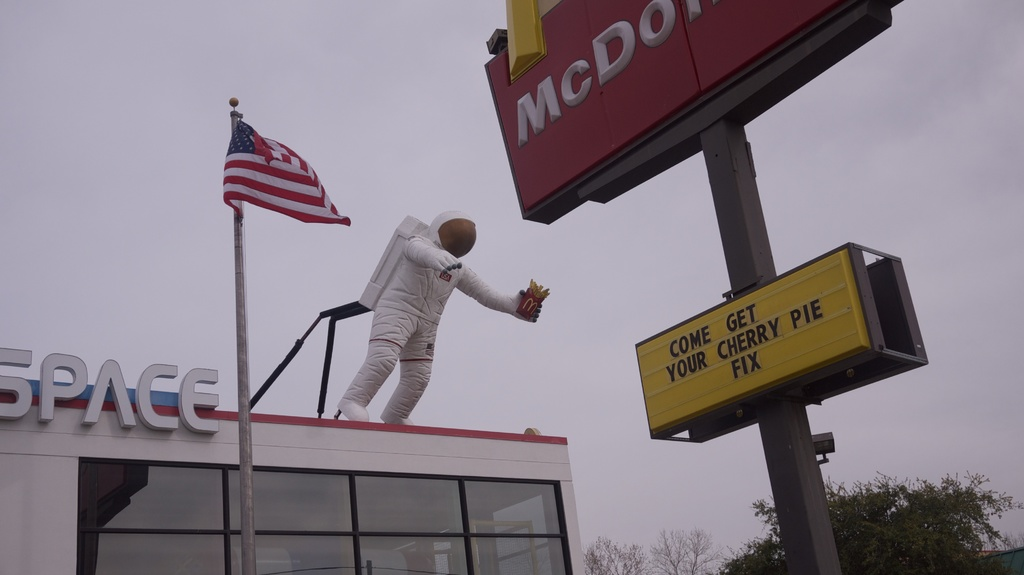Human_hand: (495, 267, 551, 329), (429, 247, 464, 277)
